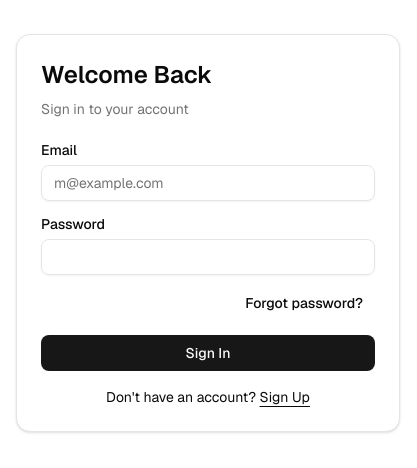
Test: Login page (integration) › shows an error message on failed sign in
The width and height of the screenshot is (417, 468).
Type "user@example.com" into the field labelled "Email" at [208, 183], box [41,165,375,201]
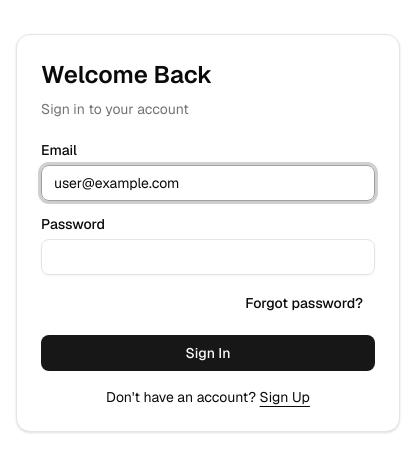
Type "wrong-password" into the password field labelled "Password" at [208, 257], box [41,239,375,275]
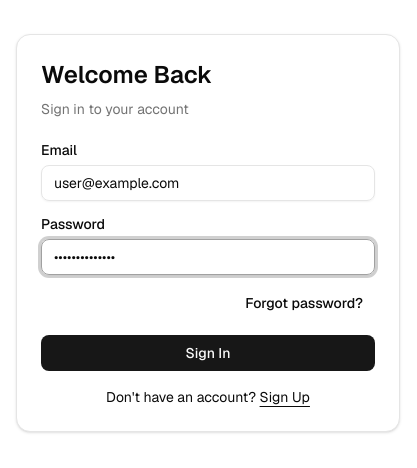
Click the button "Sign In" at [208, 353], box [41,335,375,371]
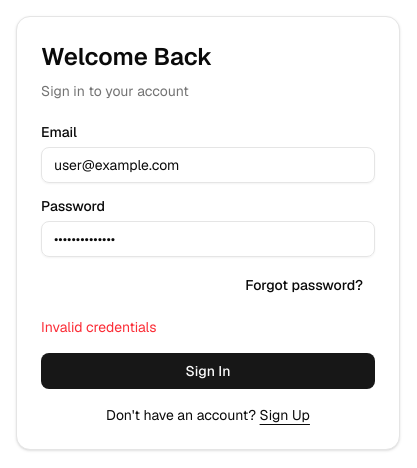
Expected: the text "Invalid credentials" is shown, [41,318,156,336]
